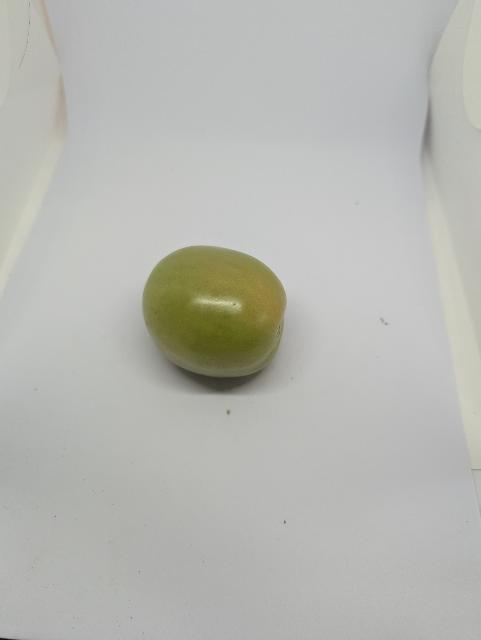green: (140, 237, 297, 397)
